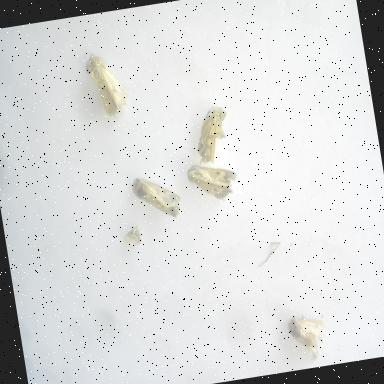abw: (81, 47, 135, 126), (186, 98, 240, 169), (127, 166, 187, 228), (184, 154, 244, 212), (282, 306, 332, 364)
